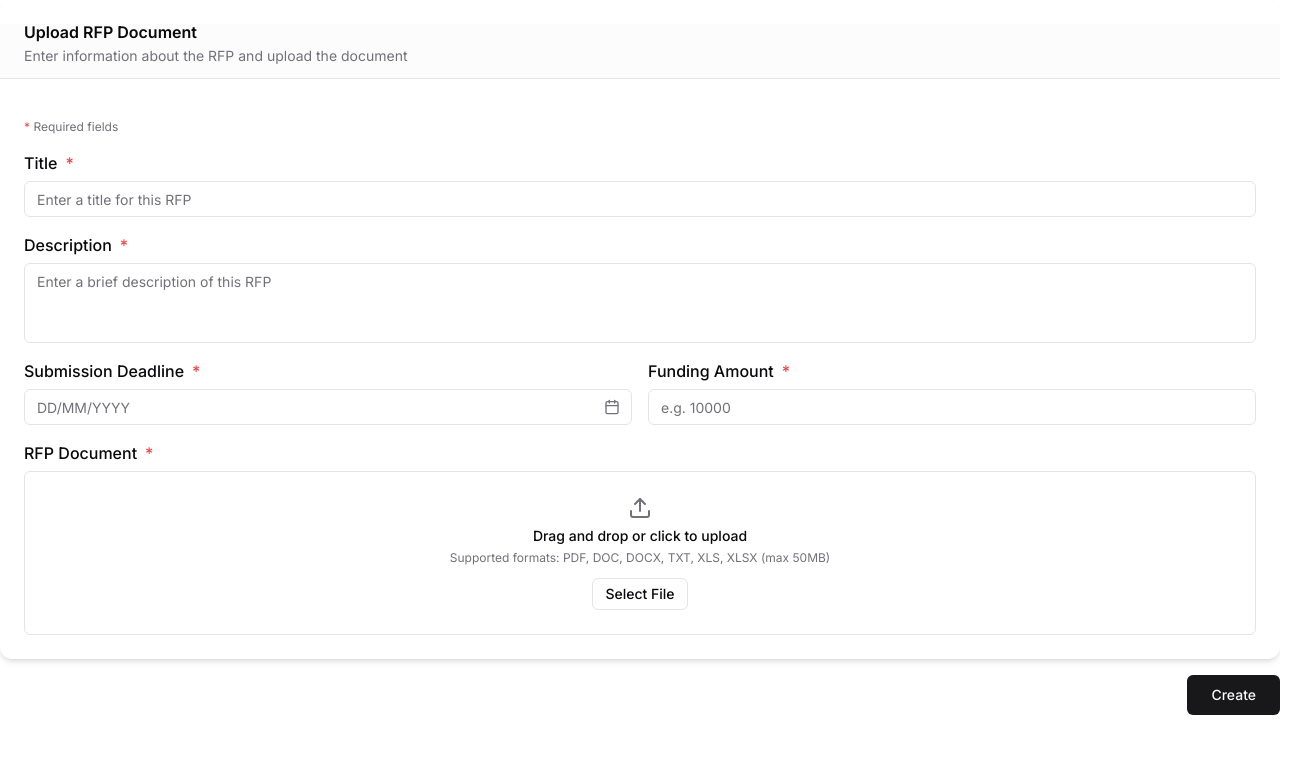
Test: RfpForm › displays errors for invalid inputs
# Enter invalid data
Type "Ab" into the field labelled "Title *".
click(640, 199); type("Ab")  # box [24,181,1256,217]
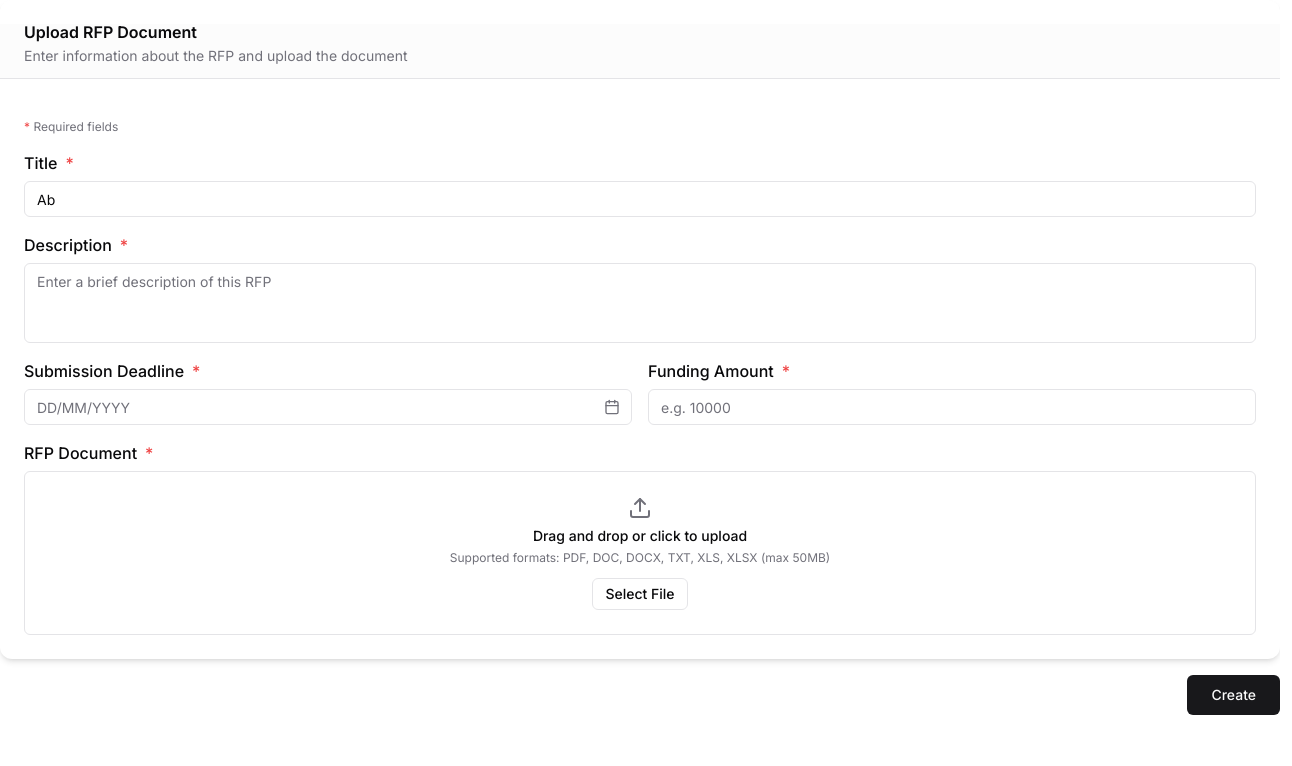
Type "Too short" into the text box labelled "Description *".
click(640, 303); type("Too short")  # box [24,263,1256,343]
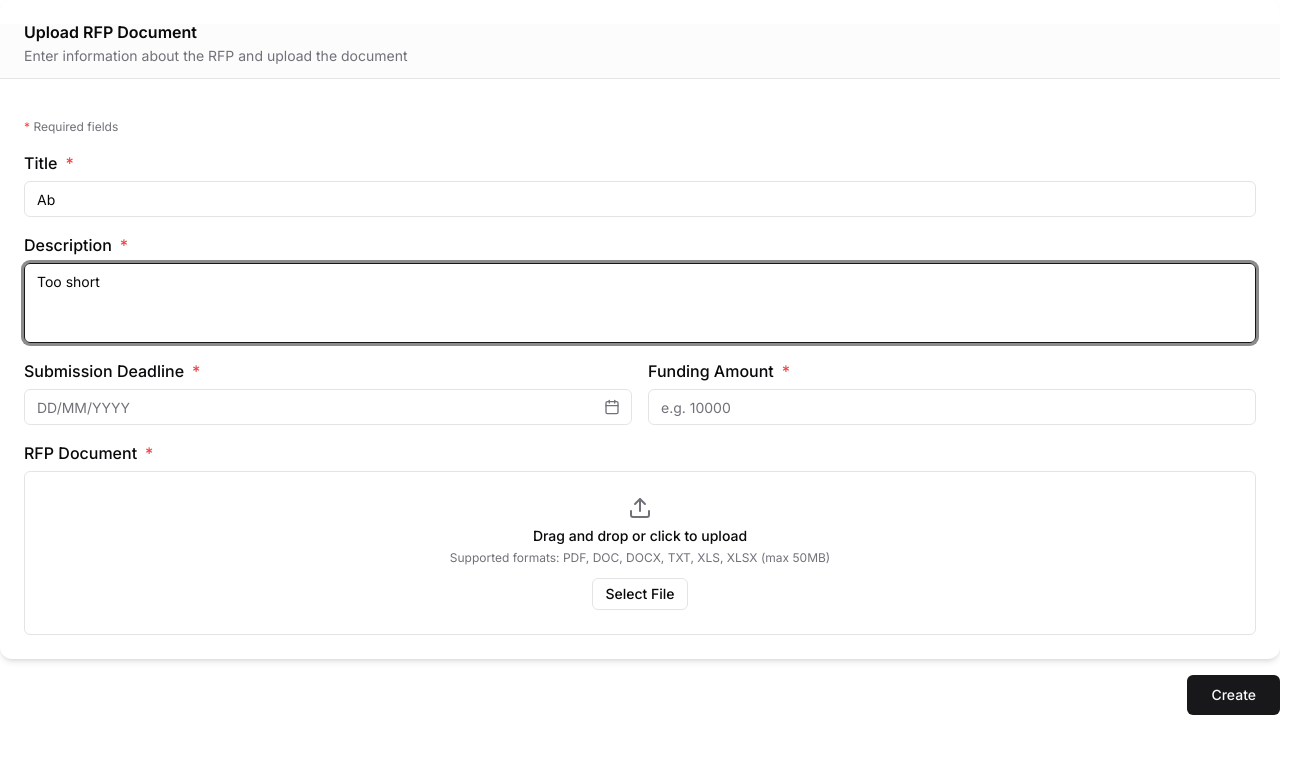
Type "abc" into the field labelled "Funding Amount *".
click(952, 407); type("abc")  # box [648,389,1256,425]
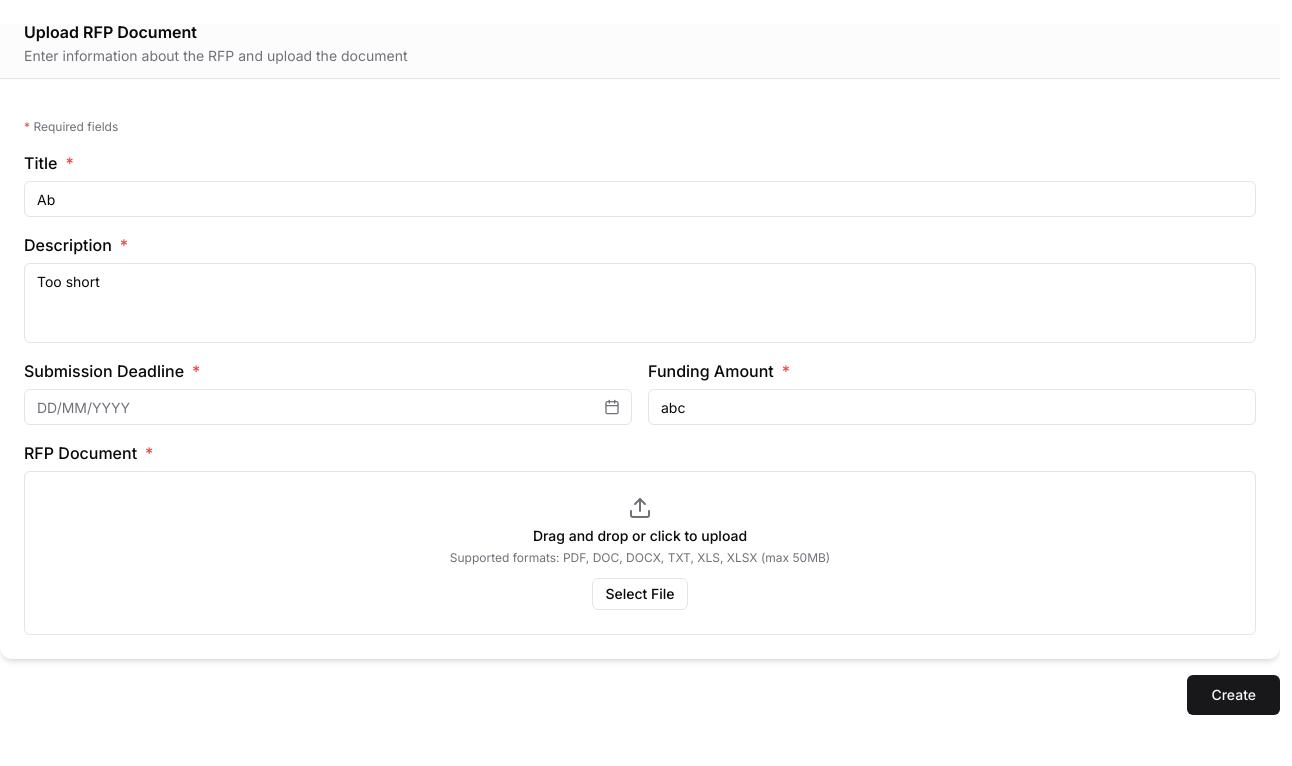
# Submit the form
Click the button "Create".
click(1234, 695)  # box [1187,675,1280,715]
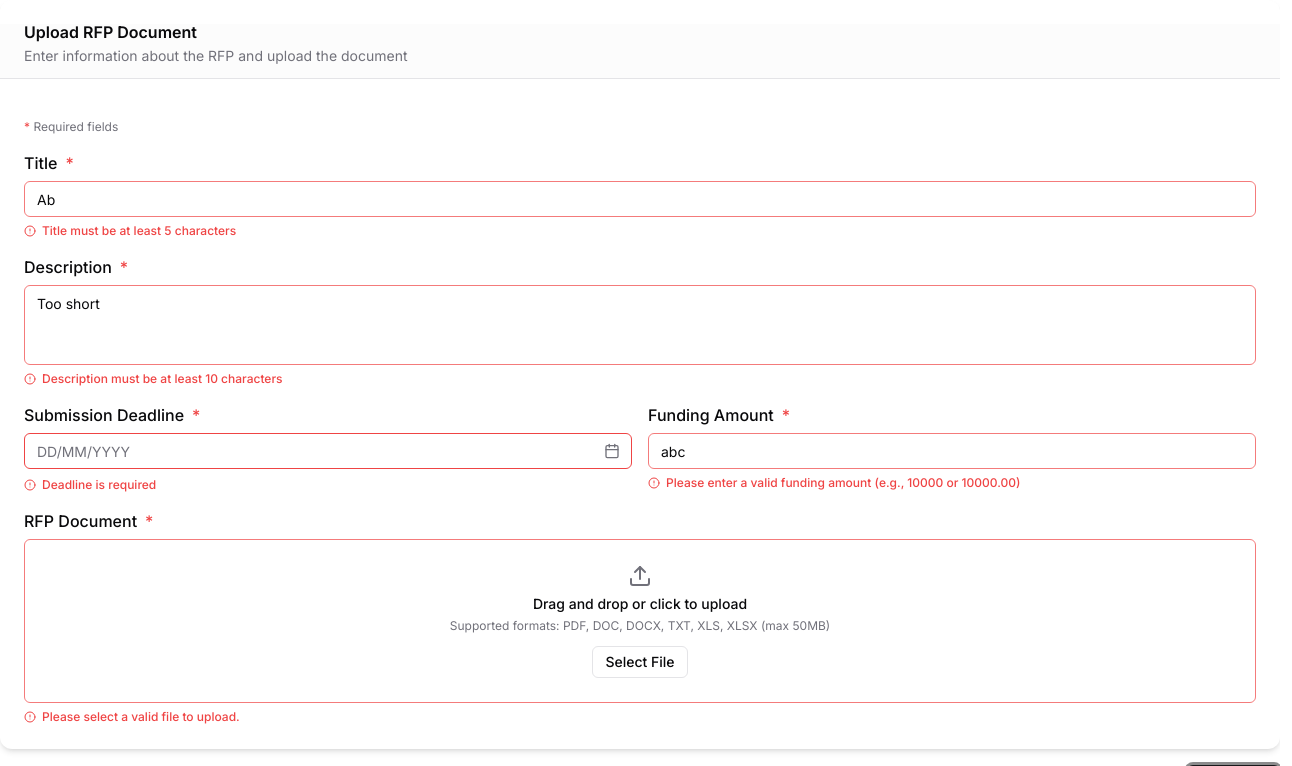
Now the text "Title must be at least 5 characters" is shown, box [24,223,236,238]
Now the text "Description must be at least 10 characters" is shown, box [24,371,282,386]
Now the text "Please enter a valid funding amount" is shown, box [666,475,1020,490]
